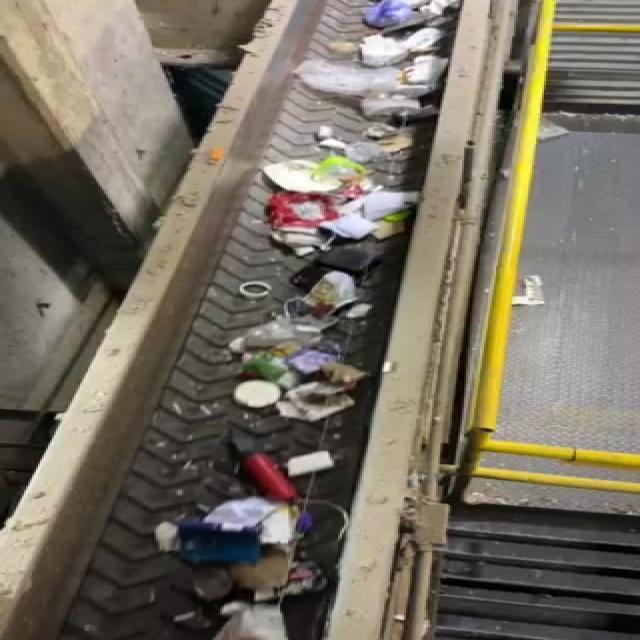pet: (223, 428, 298, 504)
pp: (166, 521, 268, 565)
